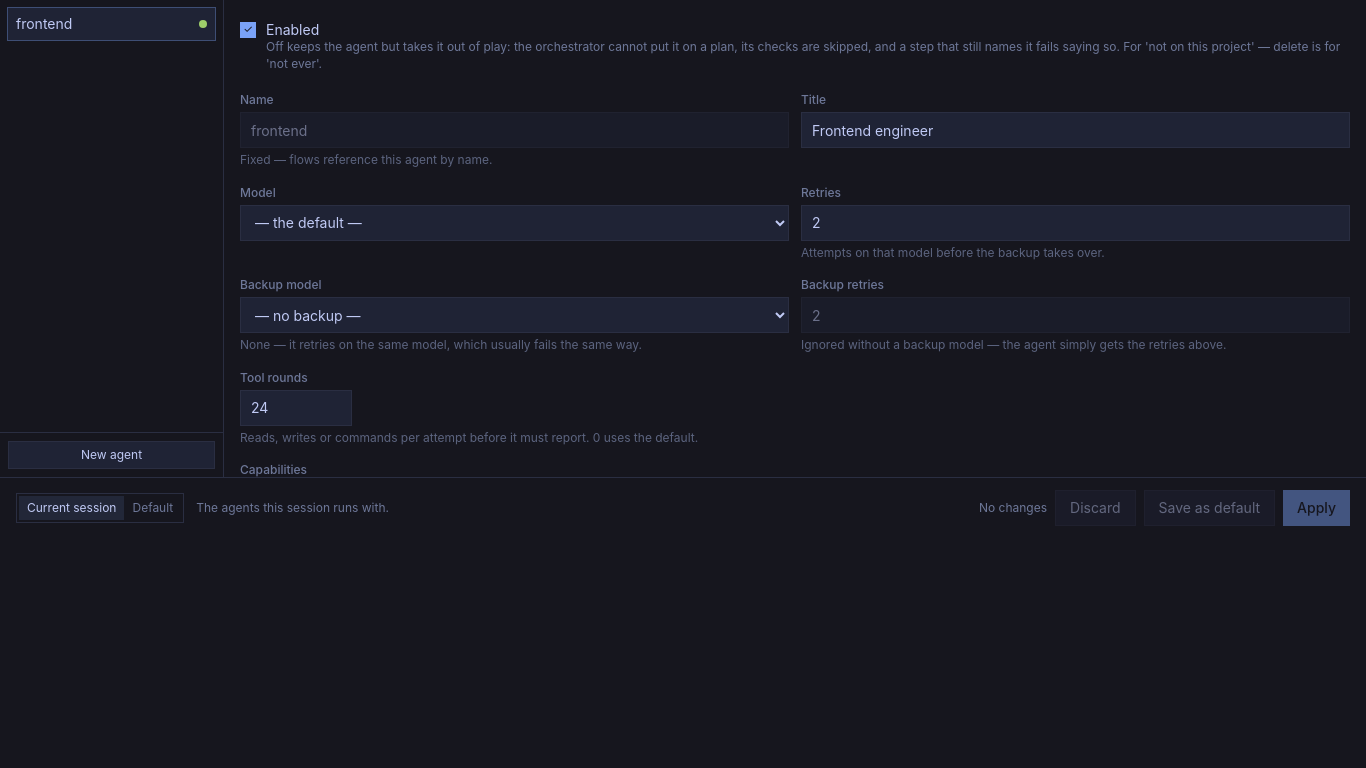
Test: editing what new projects start from › offers the shipped definition in the Default scope, and no marker when identical
This screenshot has width=1366, height=768.
Click the button "Default".
click(153, 508)  # box [124,496,181,520]
(page scrolled)
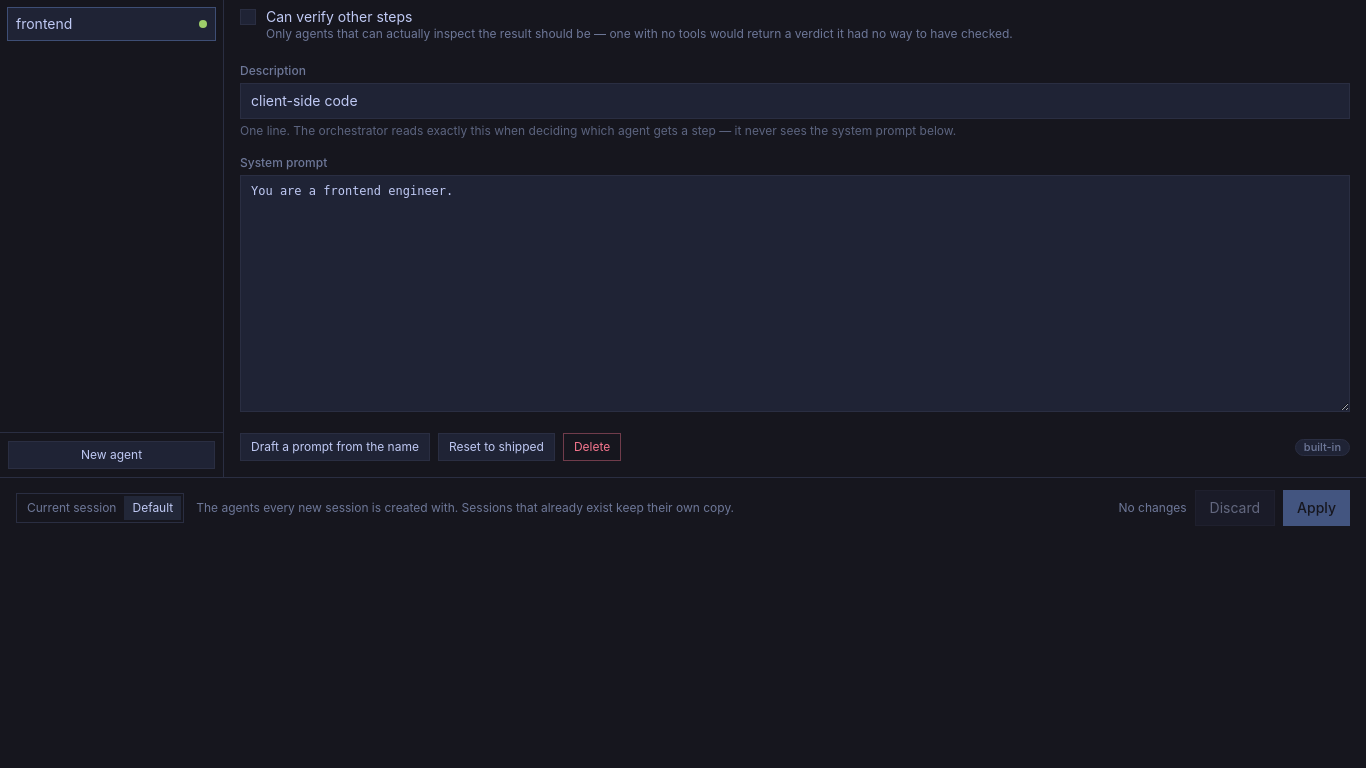
Check: the button "Reset to shipped" is shown, box [438,433,555,461]
